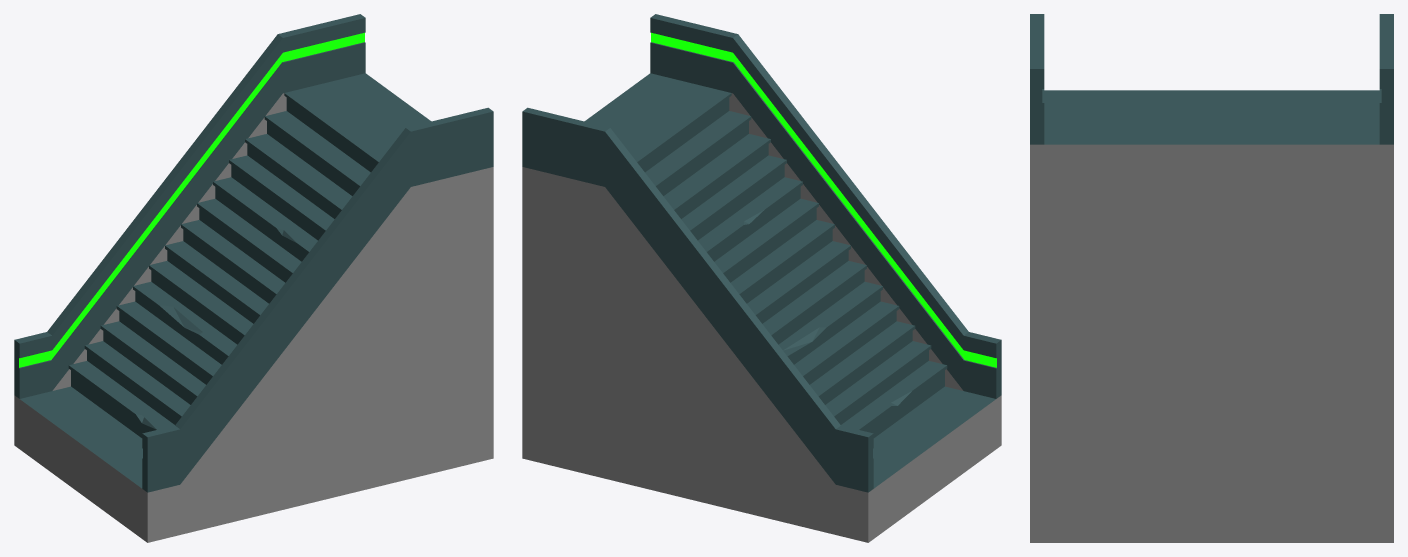
File: Stairs_03_B.FBX
3 views of the same model, side by side, from view 1: azimuth 30°, elevation 25°; view 2: azimuth 150°, elevation 25°; view 3: azimuth 270°, elevation 25° (orthographic). The views are drawn at different scales.
Visible parts, largest first — view 1: Stairs_03_B_LOD0; view 2: Stairs_03_B_LOD0; view 3: Stairs_03_B_LOD0.
Part boxes in pixels (left/top/right/bottom): Stairs_03_B_LOD0: left=14, top=14, right=493, bottom=542; Stairs_03_B_LOD0: left=522, top=14, right=1001, bottom=542; Stairs_03_B_LOD0: left=1030, top=14, right=1393, bottom=542.
Size of what is drawn, in the model's own units: 270 by 259 by 180.
